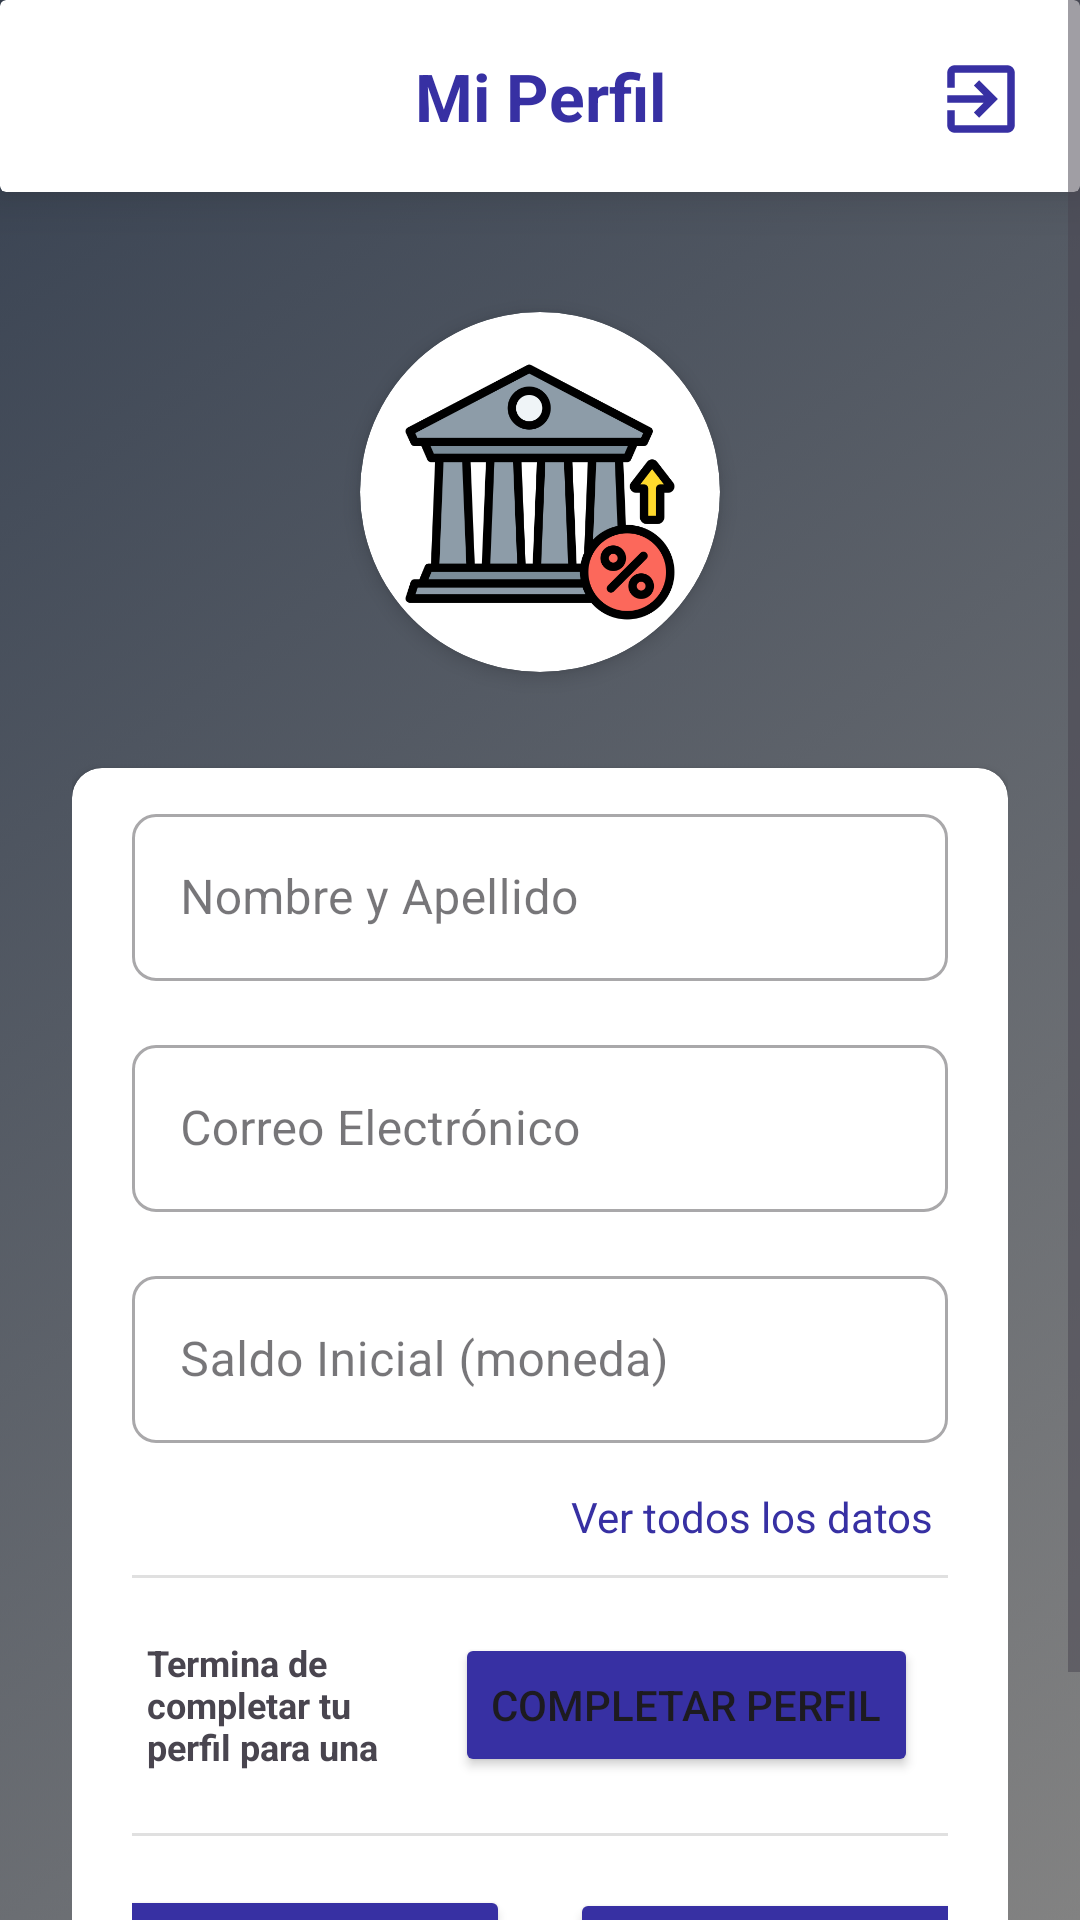

Icon bounding boxes for this 1080px×1920px phone screenshot, format BBox(x1, y1, x2, y2):
exit to app: BBox(947, 65, 1015, 133)
perfilimpuestos: BBox(405, 364, 675, 620)
